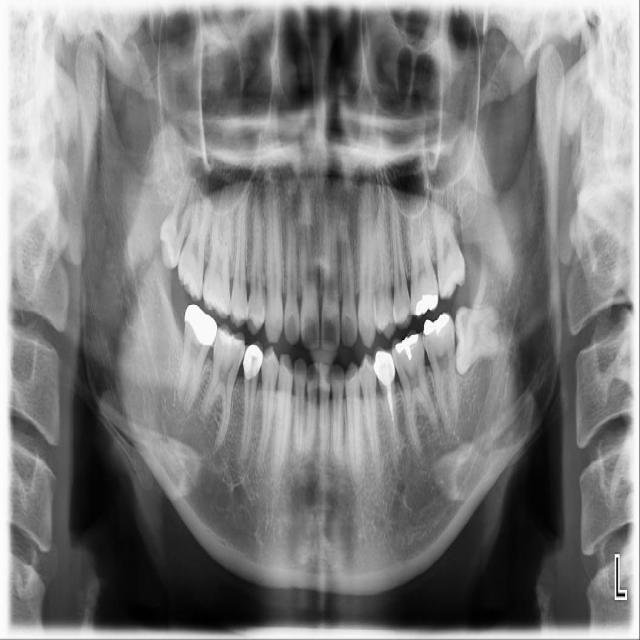Crown: (184, 303, 218, 353), (372, 346, 395, 393), (243, 341, 263, 382)
Filling: (395, 333, 420, 361), (423, 311, 450, 336), (414, 292, 440, 316)
Root Canal Treatment: (388, 390, 394, 433)
impacted tooth: (455, 305, 503, 374)
